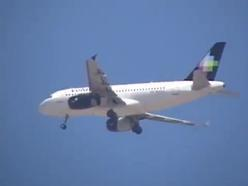aircraft: (37, 42, 239, 135)
